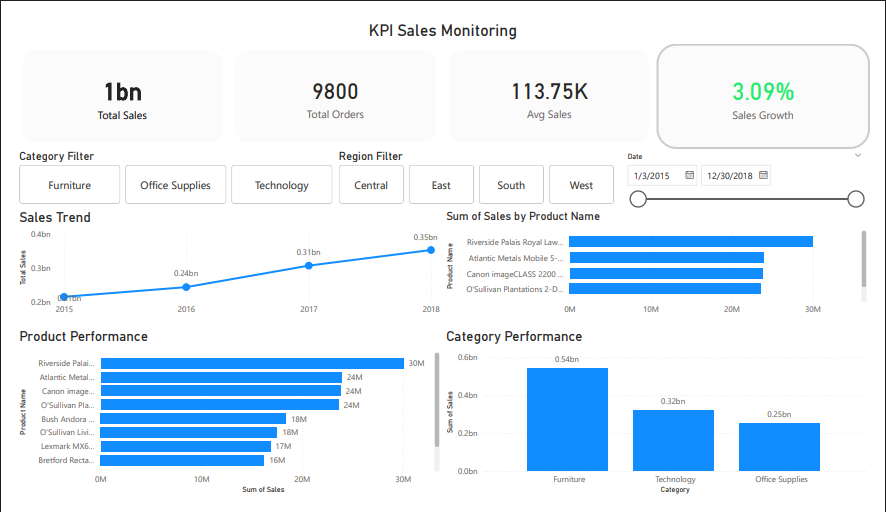

The page's visual inventory and layout, read from the dashboard file:
{"tool":"powerbi","page":{"name":"Page 1","canvas":[1280,720],"ordinal":0},"visuals":[{"type":"lineChart","title":"Sales Trend","fields":{"Y":["train.Total Sales"],"Category":["DateTable.Date.Variation.Date Hierarchy.Year","DateTable.Date.Variation.Date Hierarchy.Quarter","DateTable.Date.Variation.Date Hierarchy.Month","DateTable.Date.Variation.Date Hierarchy.Day"]},"box":[0,288.3,639.5,168.3],"z":0},{"type":"clusteredBarChart","title":"Product Performance","fields":{"Category":["train.Product Name"],"Y":["Sum(train.Sales)"]},"box":[0,466.8,639.5,253.2],"z":1000},{"type":"columnChart","title":"Category Performance","fields":{"Category":["train.Category"],"Y":["Sum(train.Sales)"]},"box":[639.5,466.8,641,253.2],"z":2000},{"type":"card","fields":{"Values":["train.Total Sales"]},"box":[0,39.5,319,158],"z":3000},{"type":"card","fields":{"Values":["train.Total Orders"]},"box":[317.6,39.5,322,158],"z":4000},{"type":"card","fields":{"Values":["train.Avg Sales"]},"box":[639.5,39.5,319,158],"z":5000},{"type":"card","fields":{"Values":["train.Sales Growth"]},"box":[960,39.5,320.5,158],"z":6000},{"type":"textbox","title":"KPI Sales Monitoring","box":[0,7.3,1280.5,32.2],"z":7000},{"type":"advancedSlicerVisual","title":"Category Filter","fields":{"Values":["train.Category"]},"box":[0,197.6,478.5,87.8],"z":8000},{"type":"advancedSlicerVisual","title":"Region Filter","fields":{"Values":["train.Region"]},"box":[478.5,197.6,425.9,87.8],"z":9000},{"type":"slicer","fields":{"Values":["DateTable.Date"]},"box":[904.4,197.6,376.1,90.7],"z":10000},{"type":"clusteredBarChart","fields":{"Category":["train.Product Name"],"Y":["Sum(train.Sales)"]},"box":[639.5,288.3,641,168.3],"z":10001}]}

Visuals, with their boxes in screenshot pixels (x1, y1, x2, y2), scaled from the page's 1280x720 canvas onto the 886x512 screenshot:
"Sales Trend" lineChart: left=0, top=205, right=443, bottom=325
"Product Performance" clusteredBarChart: left=0, top=332, right=443, bottom=511
"Category Performance" columnChart: left=443, top=332, right=885, bottom=511
card - train.Total Sales: left=0, top=28, right=221, bottom=140
card - train.Total Orders: left=220, top=28, right=443, bottom=140
card - train.Avg Sales: left=443, top=28, right=663, bottom=140
card - train.Sales Growth: left=664, top=28, right=885, bottom=140
"KPI Sales Monitoring" textbox: left=0, top=5, right=885, bottom=28
"Category Filter" advancedSlicerVisual: left=0, top=141, right=331, bottom=203
"Region Filter" advancedSlicerVisual: left=331, top=141, right=626, bottom=203
slicer - DateTable.Date: left=626, top=141, right=885, bottom=205
clusteredBarChart - train.Product Name x Sum(train.Sales): left=443, top=205, right=885, bottom=325
